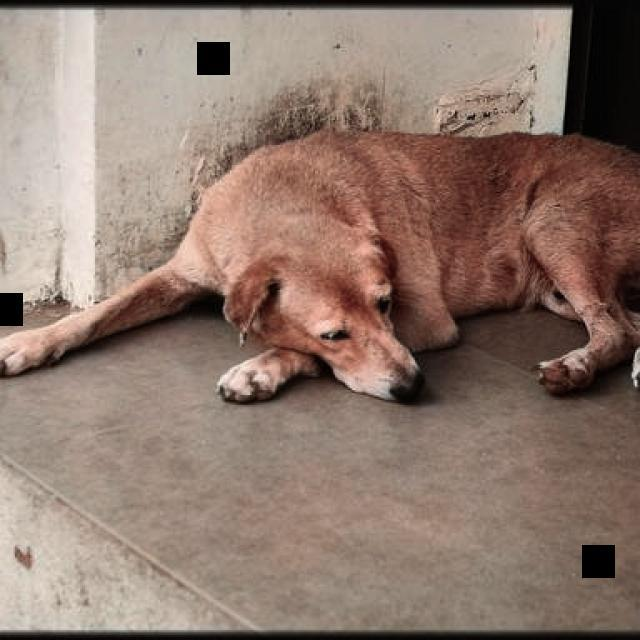adult_dog: (0, 128, 640, 410)
